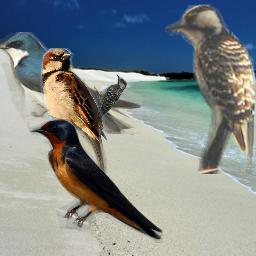Swallow: (29, 119, 163, 243), (0, 32, 142, 134), (40, 48, 107, 176)
Woodpecker: (165, 4, 256, 174), (94, 72, 127, 125)
